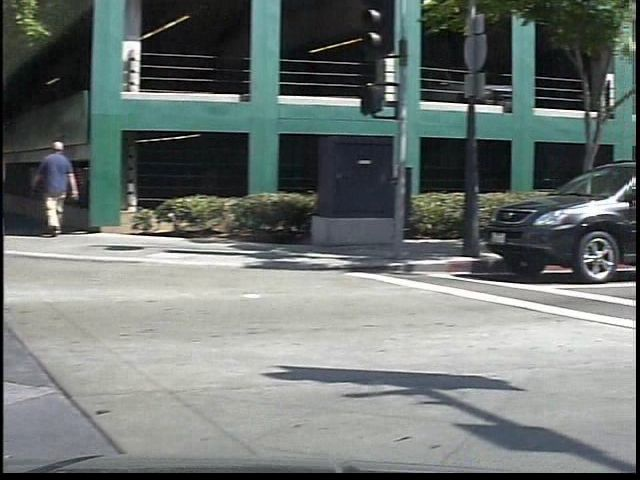person: (42, 136, 95, 241), (0, 136, 29, 249)
